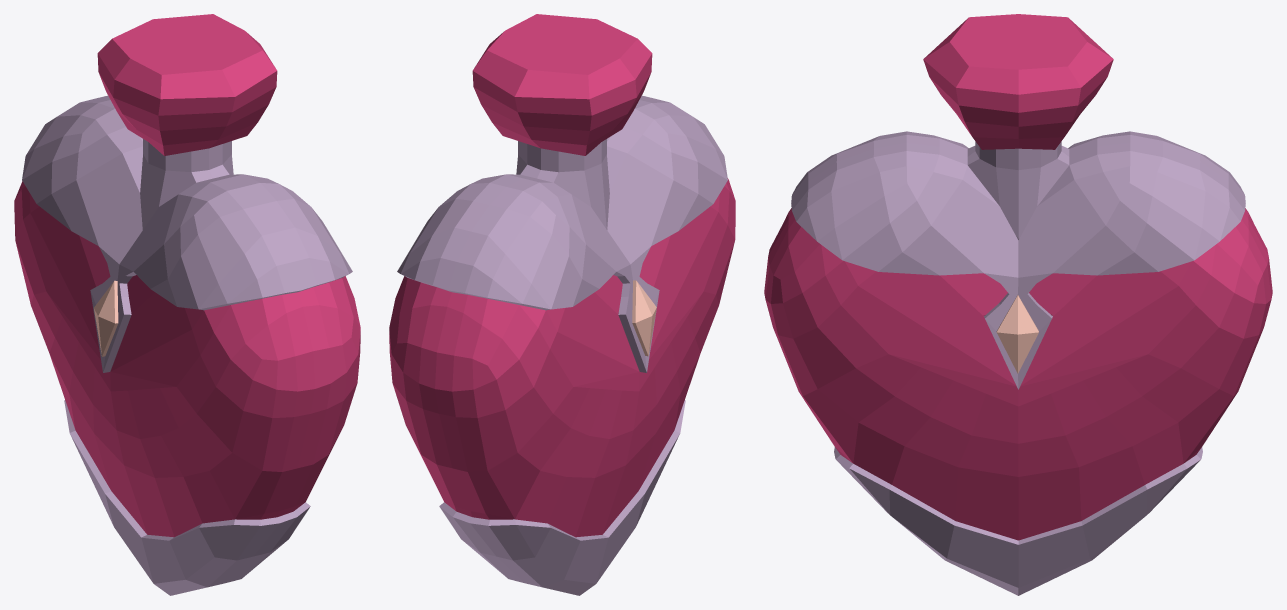
Rendered from HealthPotion 1.fbx.
3 renders of one model, left to right at view 1: azimuth 30°, elevation 25°; view 2: azimuth 150°, elevation 25°; view 3: azimuth 270°, elevation 25°, orthographic.
Visible parts, largest first — view 1: HealP; view 2: HealP; view 3: HealP.
Boxes of the visible parts, left/top/right/bottom form: HealP: left=14, top=14, right=360, bottom=595; HealP: left=389, top=14, right=735, bottom=595; HealP: left=764, top=14, right=1272, bottom=595.
Size of the model in its own units: 10.67 by 31.16 by 26.31.
